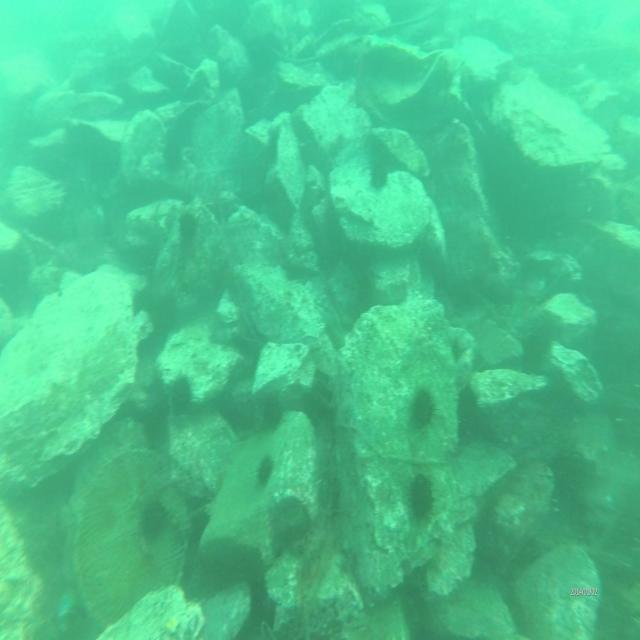echinus: (137, 492, 172, 550), (403, 470, 436, 526), (166, 374, 195, 422), (409, 391, 438, 436), (252, 456, 275, 495), (173, 210, 199, 244), (367, 156, 390, 194)
holothurian: (255, 509, 278, 564)
